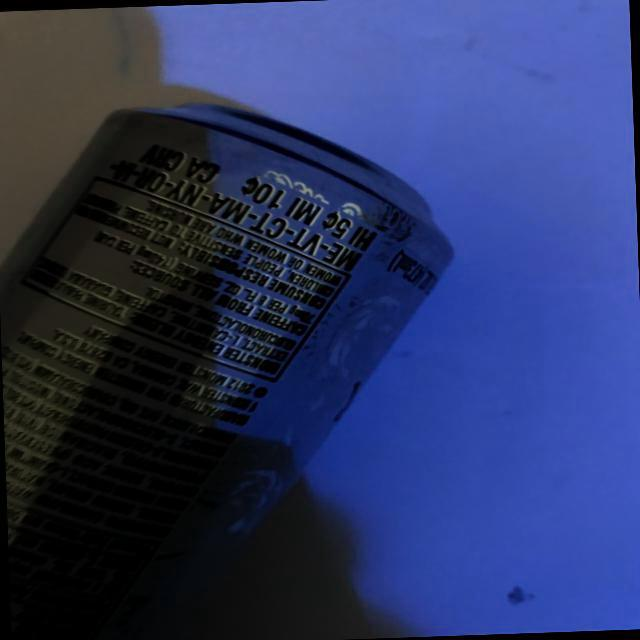metal: (1, 73, 501, 640)
